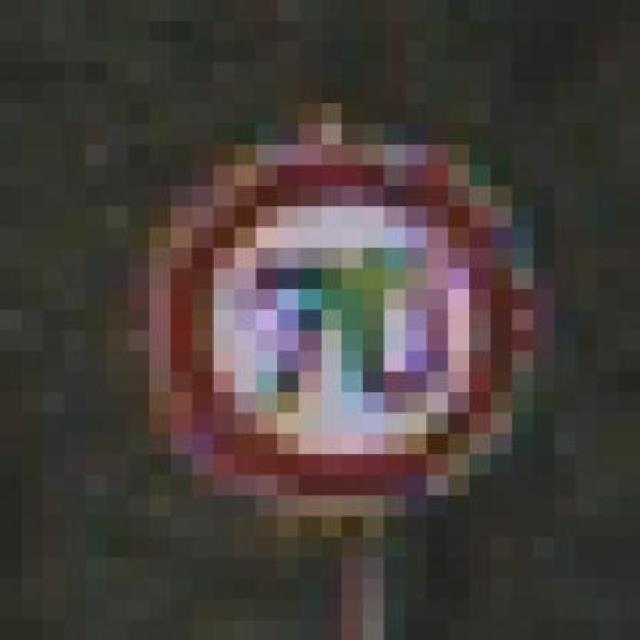forb_speed_over_70: (165, 158, 517, 501)
